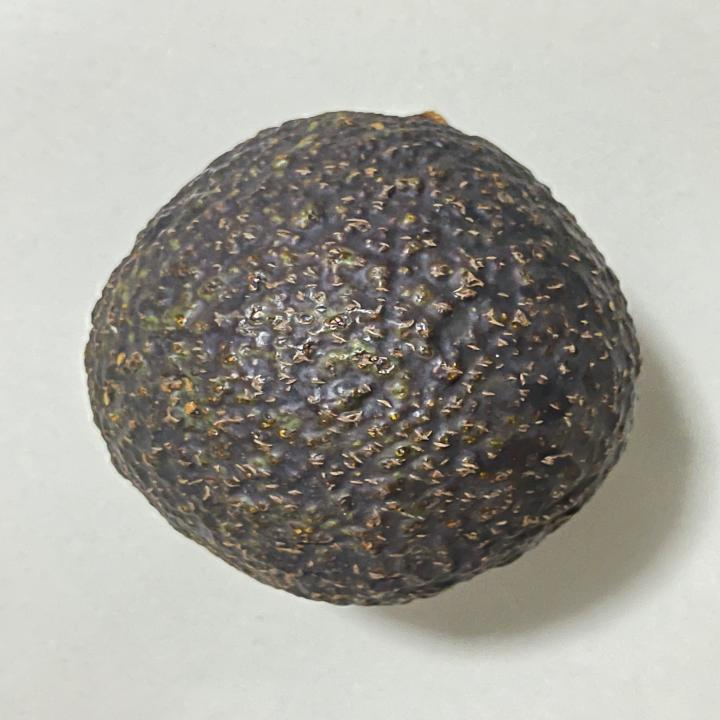Level2: (74, 97, 648, 612)
